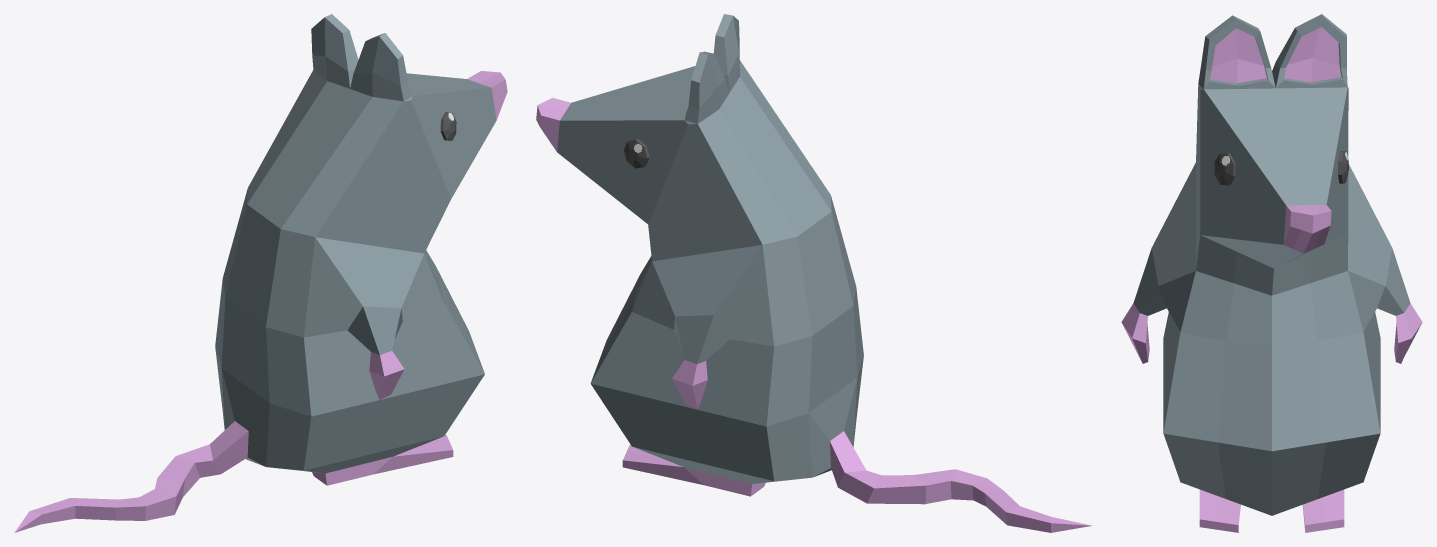
File: Rat.glb
The picture shows the model from 3 angles, left to right: view 1: azimuth 30°, elevation 25°; view 2: azimuth 150°, elevation 25°; view 3: azimuth 270°, elevation 25°; orthographic projection. The views are drawn at different scales.
Visible parts, largest first — view 1: Rat_01_Cube.048; view 2: Rat_01_Cube.048; view 3: Rat_01_Cube.048.
Part boxes in pixels (x1,y1,x2,y2): Rat_01_Cube.048: [14, 14, 507, 532]; Rat_01_Cube.048: [536, 14, 1091, 532]; Rat_01_Cube.048: [1121, 14, 1422, 532].
Size of the model in its own units: 12.87 by 10.07 by 5.73.
